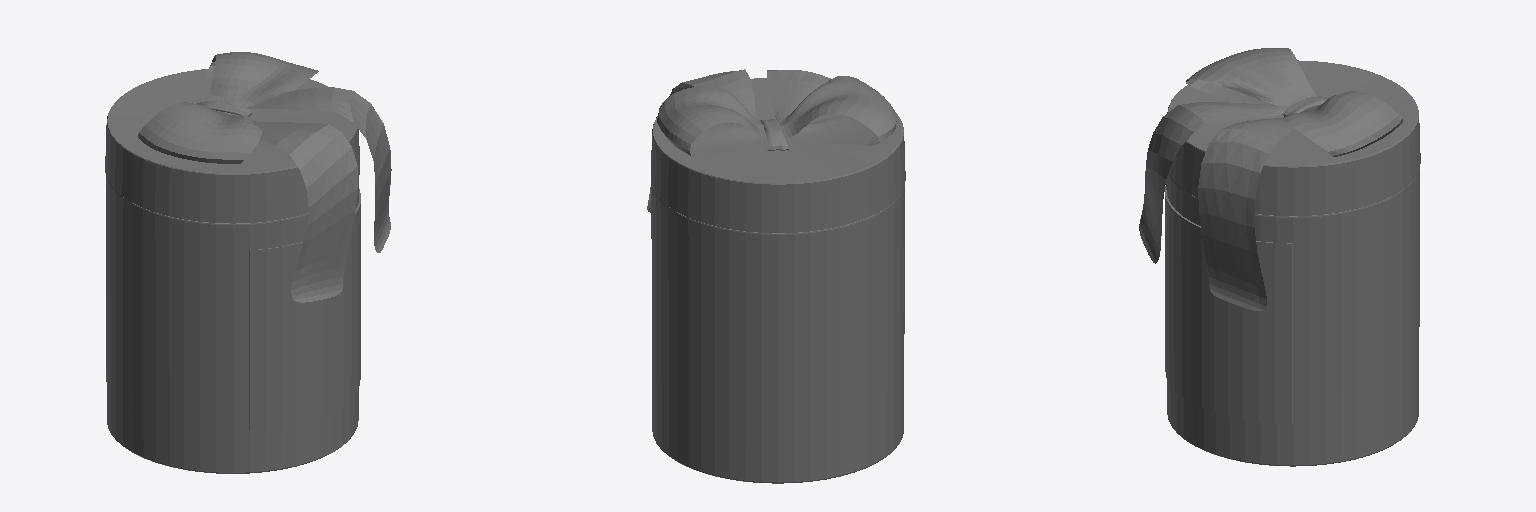
File: GiftBox.obj
The picture shows the model from 3 angles: view 1: azimuth 30°, elevation 25°; view 2: azimuth 150°, elevation 25°; view 3: azimuth 270°, elevation 25°; orthographic projection.
Visible parts, largest first — view 1: Torus_GiftBox; view 2: Torus_GiftBox; view 3: Torus_GiftBox.
Boxes of the visible parts, box(x1,y1,x2,y2) form: Torus_GiftBox: box(105, 52, 391, 473); Torus_GiftBox: box(647, 69, 905, 483); Torus_GiftBox: box(1139, 48, 1420, 466).
Size of the model in its own units: 0.6092 by 0.76 by 0.5837.